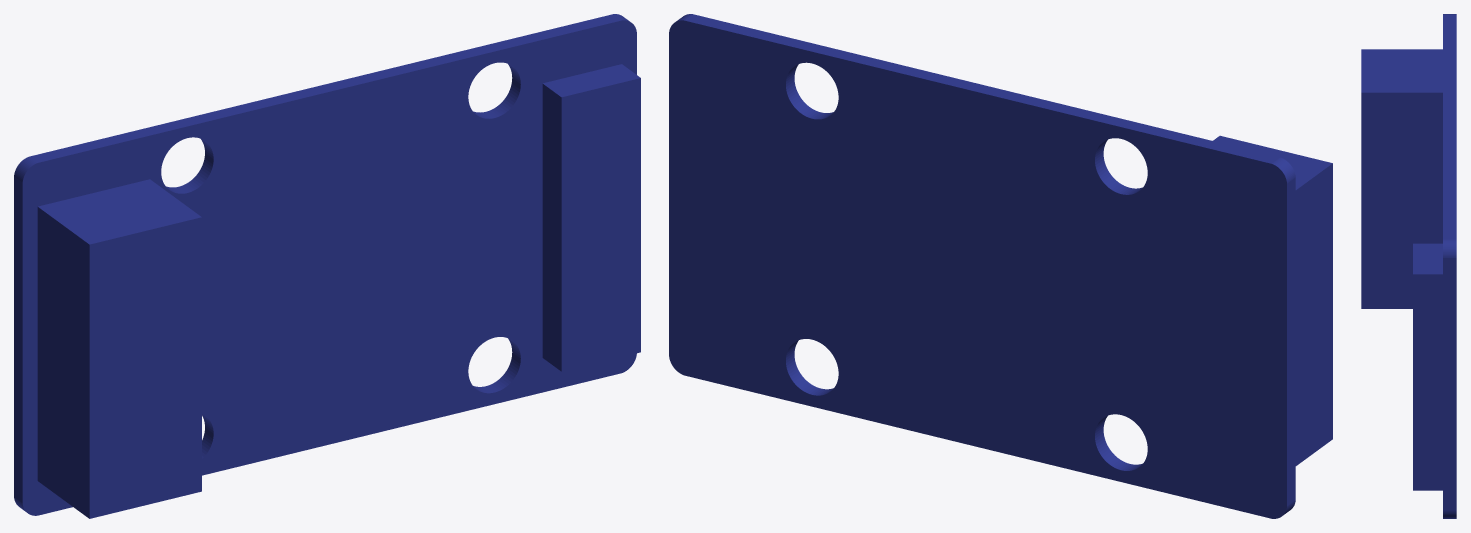
The model's file is Driver_Board.obj.
The picture shows the model from 3 angles, left to right: view 1: azimuth 30°, elevation 25°; view 2: azimuth 150°, elevation 25°; view 3: azimuth 270°, elevation 25°; orthographic projection. The views are drawn at different scales.
Visible parts, largest first — view 1: Driver_Board; view 2: Driver_Board; view 3: Driver_Board.
Boxes of the visible parts, box(x1,y1,x2,y2) form: Driver_Board: box(14, 14, 640, 518); Driver_Board: box(669, 14, 1332, 518); Driver_Board: box(1361, 14, 1456, 518).
Size of the model in its own units: 41 by 22.5 by 7.
